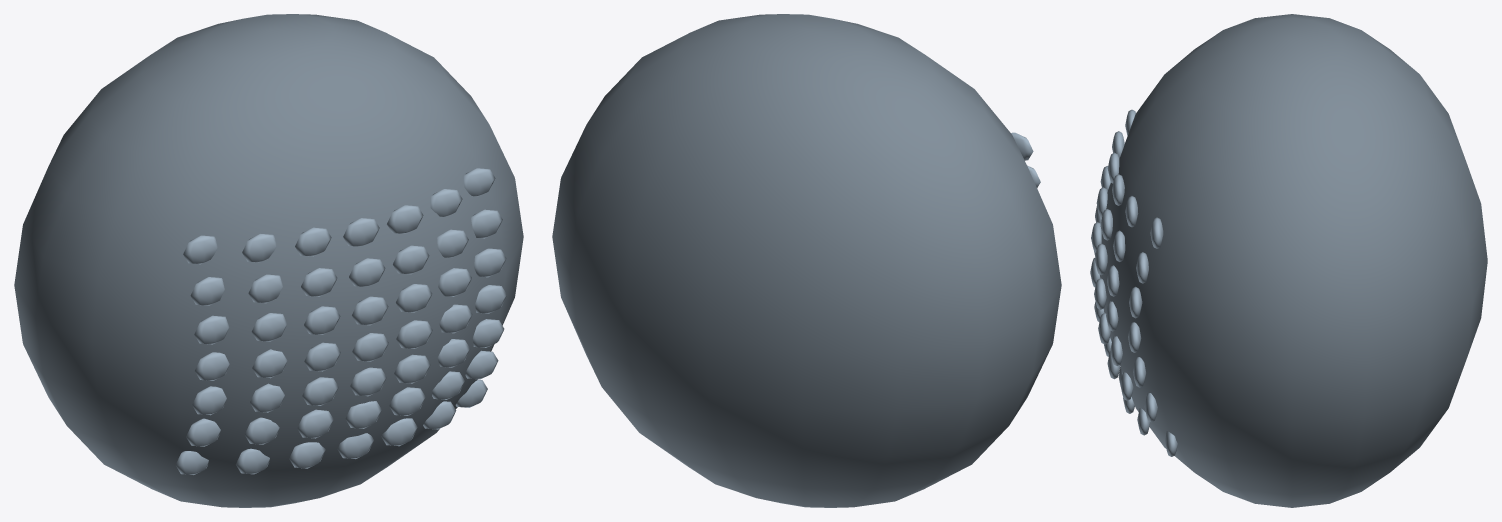
File: armor_chain.glb
3 views of the same model, side by side, from view 1: azimuth 30°, elevation 25°; view 2: azimuth 150°, elevation 25°; view 3: azimuth 270°, elevation 25° (orthographic). The views are drawn at different scales.
Parts seen in each view (by area): view 1: TorsoShell, Links; view 2: TorsoShell; view 3: TorsoShell, Links.
Part boxes in pixels (x1,y1,x2,y2): TorsoShell: (14,14,523,507); Links: (175,168,506,474); TorsoShell: (552,14,1061,507); TorsoShell: (1099,14,1487,507); Links: (1090,109,1177,456).
Bounding box in the file's own units: 0.61 × 0.576 × 0.4677.
